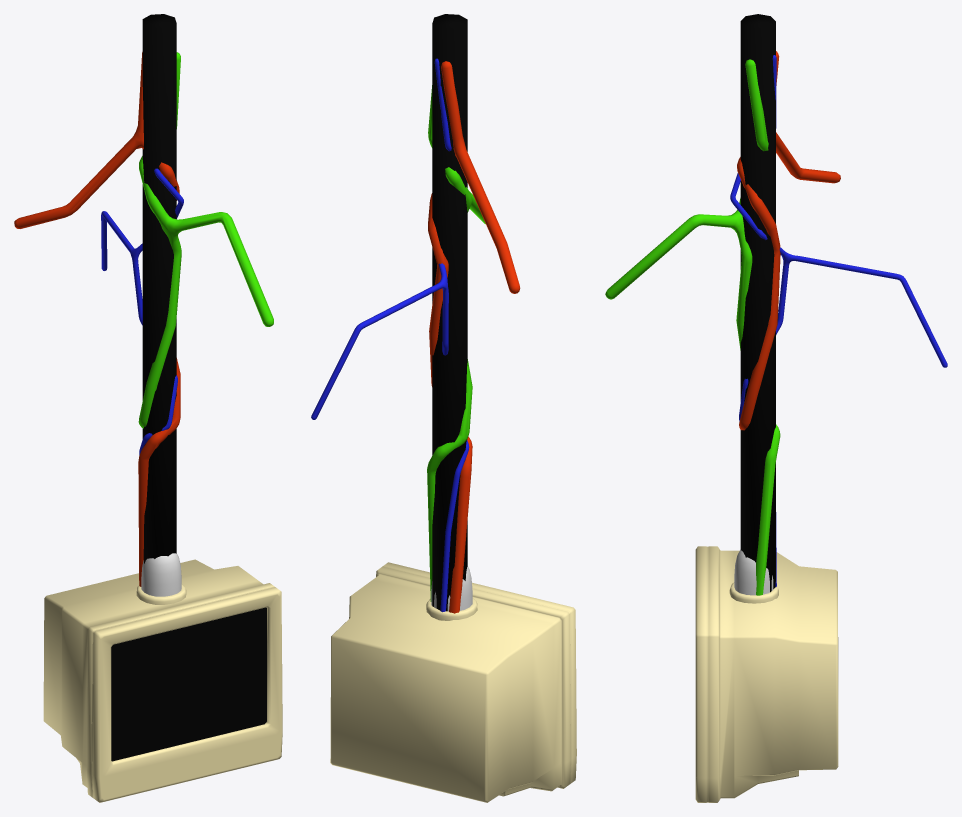
The model's file is Monitors.fbx.
The picture shows the model from 3 angles, left to right: view 1: azimuth 30°, elevation 25°; view 2: azimuth 150°, elevation 25°; view 3: azimuth 270°, elevation 25°; orthographic projection. The views are drawn at different scales.
Visible parts, largest first — view 1: Monitor, Poe, Cable2, Cable3, Cable, WarningLightDome, WarningLight; view 2: Monitor, Poe, Cable3, Cable, Cable2, WarningLight, WarningLightDome; view 3: Monitor, Poe, Cable2, Cable3, Cable, WarningLightDome.
Boxes of the visible parts, x1,y1,x2,y2 form: Monitor: (43, 559, 282, 802); Poe: (142, 14, 176, 563); Cable2: (138, 52, 273, 428); Cable3: (14, 52, 180, 586); Cable: (101, 168, 183, 455); WarningLightDome: (141, 553, 181, 596); WarningLight: (136, 584, 186, 604); Monitor: (330, 562, 576, 802); Poe: (432, 14, 467, 611); Cable3: (428, 61, 520, 613); Cable: (311, 58, 469, 612); Cable2: (427, 85, 485, 601); WarningLight: (426, 598, 477, 620); WarningLightDome: (431, 566, 472, 611); Monitor: (695, 546, 838, 802); Poe: (740, 14, 775, 592); Cable2: (605, 59, 780, 595); Cable3: (737, 51, 840, 430); Cable: (730, 55, 947, 586); WarningLightDome: (734, 550, 773, 595).
Size of the model in its own units: 269 by 951 by 400.
